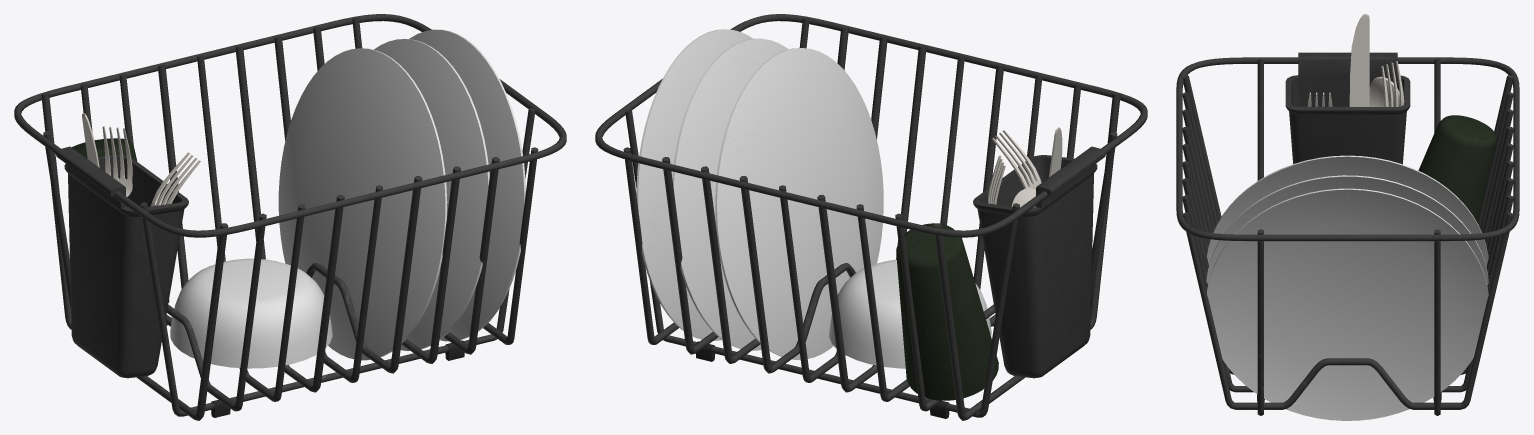
3 views of the same model, side by side, from view 1: azimuth 30°, elevation 25°; view 2: azimuth 150°, elevation 25°; view 3: azimuth 270°, elevation 25° (orthographic). The views are drawn at different scales.
Parts seen in each view (by area): view 1: DishRack, DishPlateC, DishPlateB, DishBowl, DishPlateA, UtensilForkA, UtensilForkB, DishCup; view 2: DishRack, DishPlateC, DishPlateB, DishCup, DishPlateA, DishBowl, UtensilForkB; view 3: DishPlateA, DishRack, DishPlateC, DishCup, DishPlateB, UtensilKnife, UtensilForkA, UtensilSpoon.
Part boxes in pixels (left/top/right/bottom): DishRack: left=14, top=14, right=566, bottom=420; DishPlateC: left=278, top=48, right=447, bottom=360; DishPlateB: left=374, top=39, right=489, bottom=350; DishBowl: left=170, top=258, right=332, bottom=368; DishPlateA: left=409, top=29, right=525, bottom=341; UtensilForkA: left=102, top=126, right=132, bottom=196; UtensilForkB: left=150, top=152, right=200, bottom=206; DishCup: left=72, top=138, right=169, bottom=302; DishRack: left=595, top=14, right=1147, bottom=420; DishPlateC: left=715, top=48, right=883, bottom=359; DishPlateB: left=672, top=38, right=788, bottom=350; DishCup: left=896, top=223, right=998, bottom=400; DishPlateA: left=636, top=29, right=752, bottom=340; DishBowl: left=829, top=259, right=991, bottom=368; UtensilForkB: left=992, top=130, right=1041, bottom=189; DishPlateA: left=1207, top=188, right=1488, bottom=420; DishRack: left=1176, top=52, right=1519, bottom=415; DishPlateC: left=1207, top=155, right=1488, bottom=266; DishCup: left=1418, top=115, right=1496, bottom=222; DishPlateB: left=1206, top=175, right=1488, bottom=285; UtensilKnife: left=1349, top=14, right=1369, bottom=106; UtensilForkA: left=1381, top=61, right=1404, bottom=106; UtensilSpoon: left=1369, top=76, right=1399, bottom=106.
Bounding box in the file's own units: 0.42 × 0.2829 × 0.3352.
Materials: 1 (1 with a texture image).
